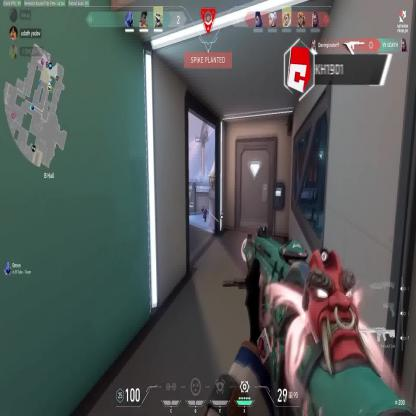enemy: (202, 206, 207, 221)
enemy_head: (203, 205, 206, 210)
